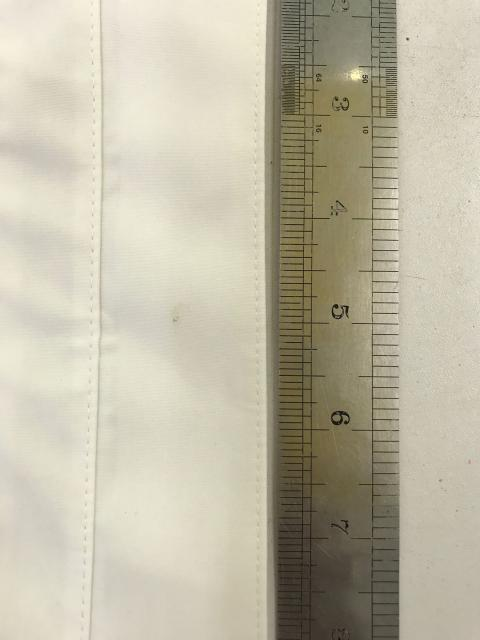Dirty_mark: (163, 300, 189, 331)
